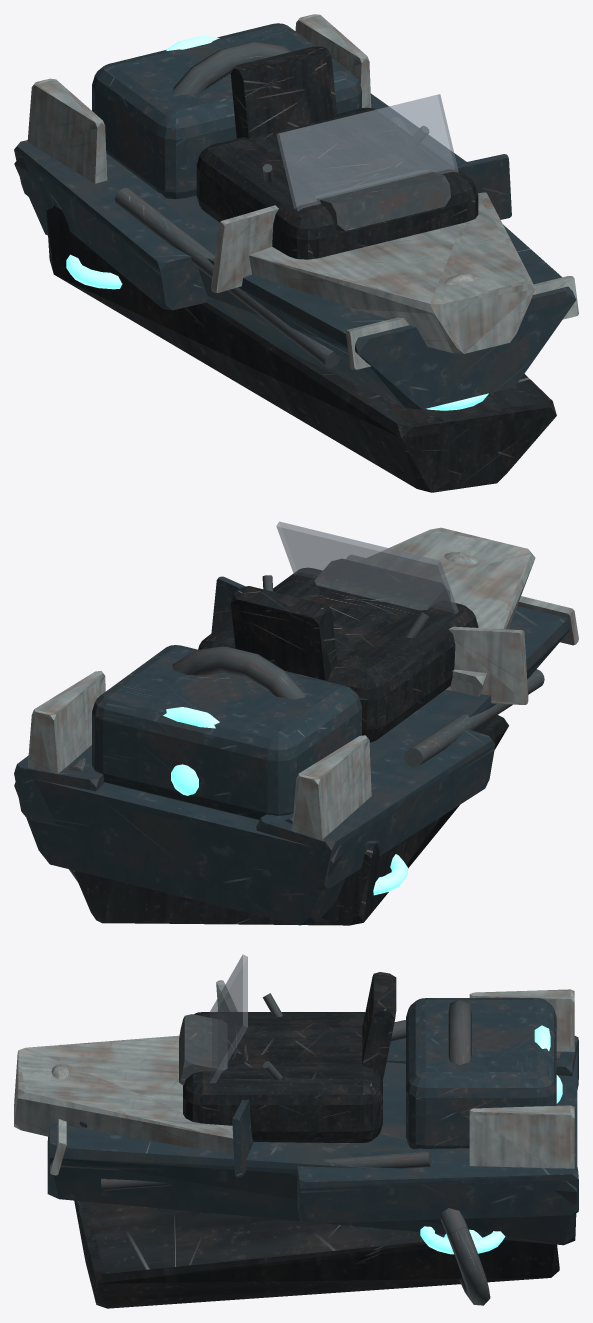
Rendered from combineGlider.glb.
3 renders of one model, top to bottom at view 1: azimuth 30°, elevation 25°; view 2: azimuth 150°, elevation 25°; view 3: azimuth 270°, elevation 25°, orthographic. The views are drawn at different scales.
Visible parts, largest first — view 1: combineGlider_body, wreckage_combine_glider, combineGlider_windscreen, rudder_left, rudder_right, stabilizer_rear_left; view 2: combineGlider_body, wreckage_combine_glider, combineGlider_windscreen, rudder_left, rudder_right, fan_main, stabilizer_rear_left; view 3: combineGlider_body, wreckage_combine_glider, rudder_right, combineGlider_windscreen, rudder_left, stabilizer_rear_right, fan_main.
Part boxes in pixels (bbox=[...]): combineGlider_body: bbox=[14, 23, 578, 409]; wreckage_combine_glider: bbox=[46, 204, 556, 492]; combineGlider_windscreen: bbox=[276, 94, 458, 211]; rudder_left: bbox=[27, 78, 107, 183]; rudder_right: bbox=[295, 14, 371, 107]; stabilizer_rear_left: bbox=[66, 254, 122, 289]; combineGlider_body: bbox=[14, 527, 578, 925]; wreckage_combine_glider: bbox=[68, 715, 508, 925]; combineGlider_windscreen: bbox=[276, 521, 458, 613]; rudder_left: bbox=[292, 735, 371, 839]; rudder_right: bbox=[27, 671, 105, 773]; fan_main: bbox=[163, 707, 219, 795]; stabilizer_rear_left: bbox=[373, 854, 407, 895]; combineGlider_body: bbox=[14, 972, 578, 1245]; wreckage_combine_glider: bbox=[74, 1200, 559, 1308]; rudder_right: bbox=[469, 1105, 574, 1168]; combineGlider_windscreen: bbox=[209, 954, 247, 1082]; rudder_left: bbox=[469, 989, 574, 1051]; stabilizer_rear_right: bbox=[420, 1226, 505, 1254]; fan_main: bbox=[534, 1025, 562, 1103].
Size of what is drawn, in the model's own units: 2.22 by 1.96 by 3.45.
3 materials, 1 textured.
